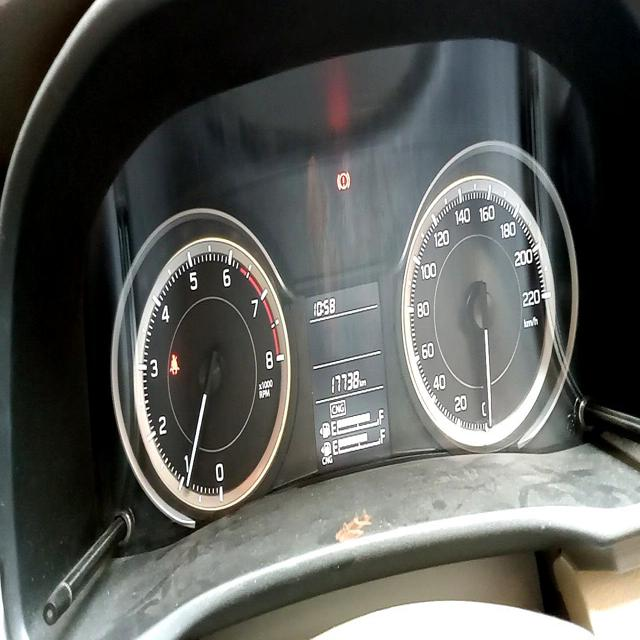odometer: (326, 366, 361, 393)
